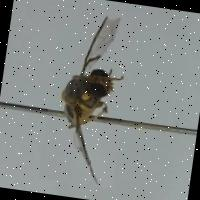Oriental-fruit-fly: (38, 2, 136, 188)
